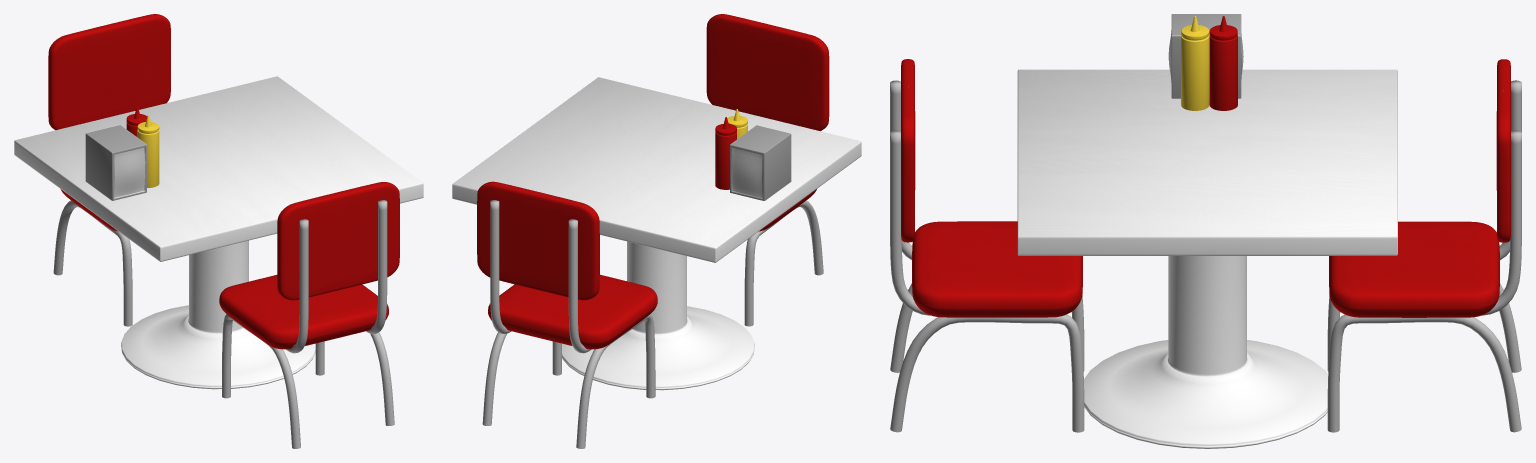
The model's file is tableset.glb.
3 renders of one model, left to right at view 1: azimuth 30°, elevation 25°; view 2: azimuth 150°, elevation 25°; view 3: azimuth 270°, elevation 25°, orthographic. The views are drawn at different scales.
Parts seen in each view (by area): view 1: Cylinder.005, Cube.005, Cube.014, Cube.022; view 2: Cylinder.005, Cube.014, Cube.005, Cube.022; view 3: Cylinder.005, Cube.005, Cube.014, Cube.022.
Boxes of the visible parts, x1=… form: Cylinder.005: x1=14, y1=76, x2=423, y2=389; Cube.005: x1=219, y1=182, x2=399, y2=448; Cube.014: x1=48, y1=14, x2=170, y2=326; Cube.022: x1=85, y1=107, x2=159, y2=200; Cylinder.005: x1=452, y1=77, x2=861, y2=390; Cube.014: x1=477, y1=181, x2=657, y2=448; Cube.005: x1=706, y1=14, x2=829, y2=326; Cube.022: x1=715, y1=109, x2=791, y2=200; Cylinder.005: x1=1017, y1=69, x2=1397, y2=448; Cube.005: x1=890, y1=59, x2=1084, y2=432; Cube.014: x1=1327, y1=59, x2=1521, y2=432; Cube.022: x1=1168, y1=14, x2=1243, y2=110.
Size of the model in its own units: 0.8893 by 0.827 by 1.42.
3 materials, 3 textured.
